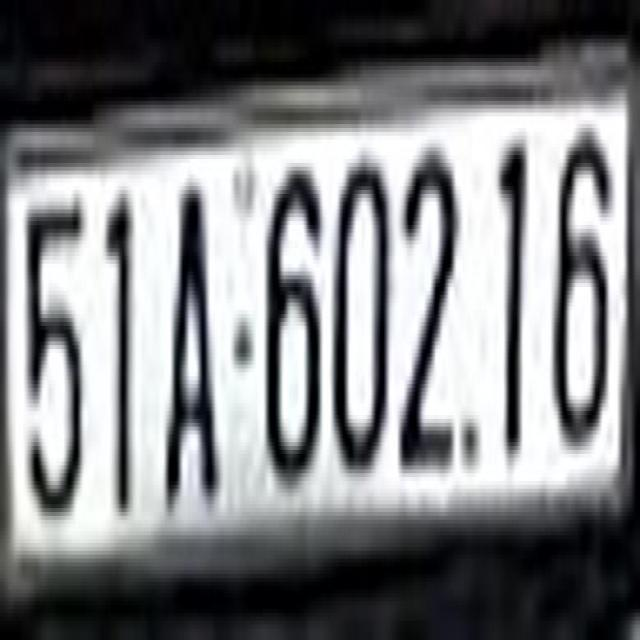0: (333, 148, 390, 474)
1: (108, 167, 140, 508), (496, 128, 528, 458)
2: (396, 155, 456, 469)
5: (20, 175, 87, 512)
6: (267, 152, 330, 496), (554, 112, 610, 458)
A: (168, 167, 217, 508)
